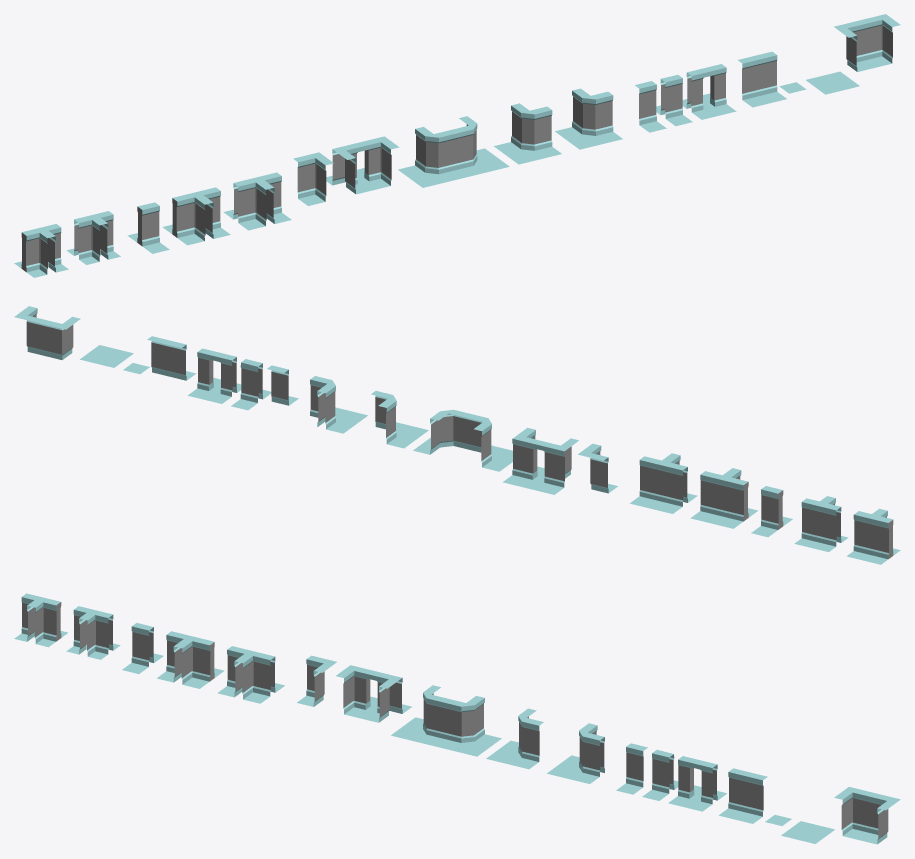
Rendered from COLOR all walls.fbx.
3 views of the same model, one above another, from view 1: azimuth 30°, elevation 25°; view 2: azimuth 150°, elevation 25°; view 3: azimuth 330°, elevation 25° (orthographic).
Visible parts, largest first — view 1: outter cubby, cubby door, closed long intersection, inner cubby, long wall intersection, outter corner, double outter corner, short wall intersection, closed short wall intersection, door, long wall, inner corner (+4 smaller); view 2: outter cubby, cubby door, closed long intersection, long wall intersection, closed short wall intersection, short wall intersection, inner cubby, door, double outter corner, outter corner, long wall, closed double sided wall (+4 smaller); view 3: outter cubby, cubby door, inner cubby, closed long intersection, long wall intersection, door, closed short wall intersection, short wall intersection, double outter corner, long wall, outter corner, closed double sided wall (+4 smaller).
Part boxes in pixels (x1,y1,x2,y2): outter cubby: [398, 116, 509, 187]; cubby door: [326, 136, 399, 194]; closed long intersection: [162, 187, 230, 245]; inner cubby: [834, 14, 900, 71]; long wall intersection: [223, 172, 291, 230]; outter corner: [494, 103, 561, 164]; double outter corner: [555, 88, 622, 149]; short wall intersection: [66, 211, 120, 264]; closed short wall intersection: [14, 224, 68, 277]; door: [682, 64, 736, 119]; long wall: [738, 51, 786, 107]; inner corner: [293, 152, 333, 205]; outter cubby: [413, 409, 512, 471]; cubby door: [503, 427, 578, 494]; closed long intersection: [690, 468, 757, 528]; long wall intersection: [630, 453, 697, 513]; closed short wall intersection: [846, 508, 900, 564]; short wall intersection: [794, 496, 848, 551]; inner cubby: [14, 306, 80, 360]; door: [188, 348, 241, 403]; double outter corner: [310, 376, 367, 433]; outter corner: [371, 391, 428, 448]; long wall: [147, 336, 196, 380]; closed double sided wall: [751, 486, 792, 537]; outter cubby: [391, 685, 501, 756]; cubby door: [336, 665, 411, 722]; inner cubby: [834, 787, 900, 844]; closed long intersection: [157, 631, 224, 688]; long wall intersection: [217, 646, 284, 703]; door: [668, 756, 726, 811]; closed short wall intersection: [14, 593, 67, 647]; short wall intersection: [66, 606, 120, 659]; double outter corner: [547, 723, 604, 783]; long wall: [718, 768, 767, 823]; outter corner: [486, 708, 543, 769]; closed double sided wall: [122, 623, 163, 673].
Size of the model in its own units: 10000 by 400 by 800.
